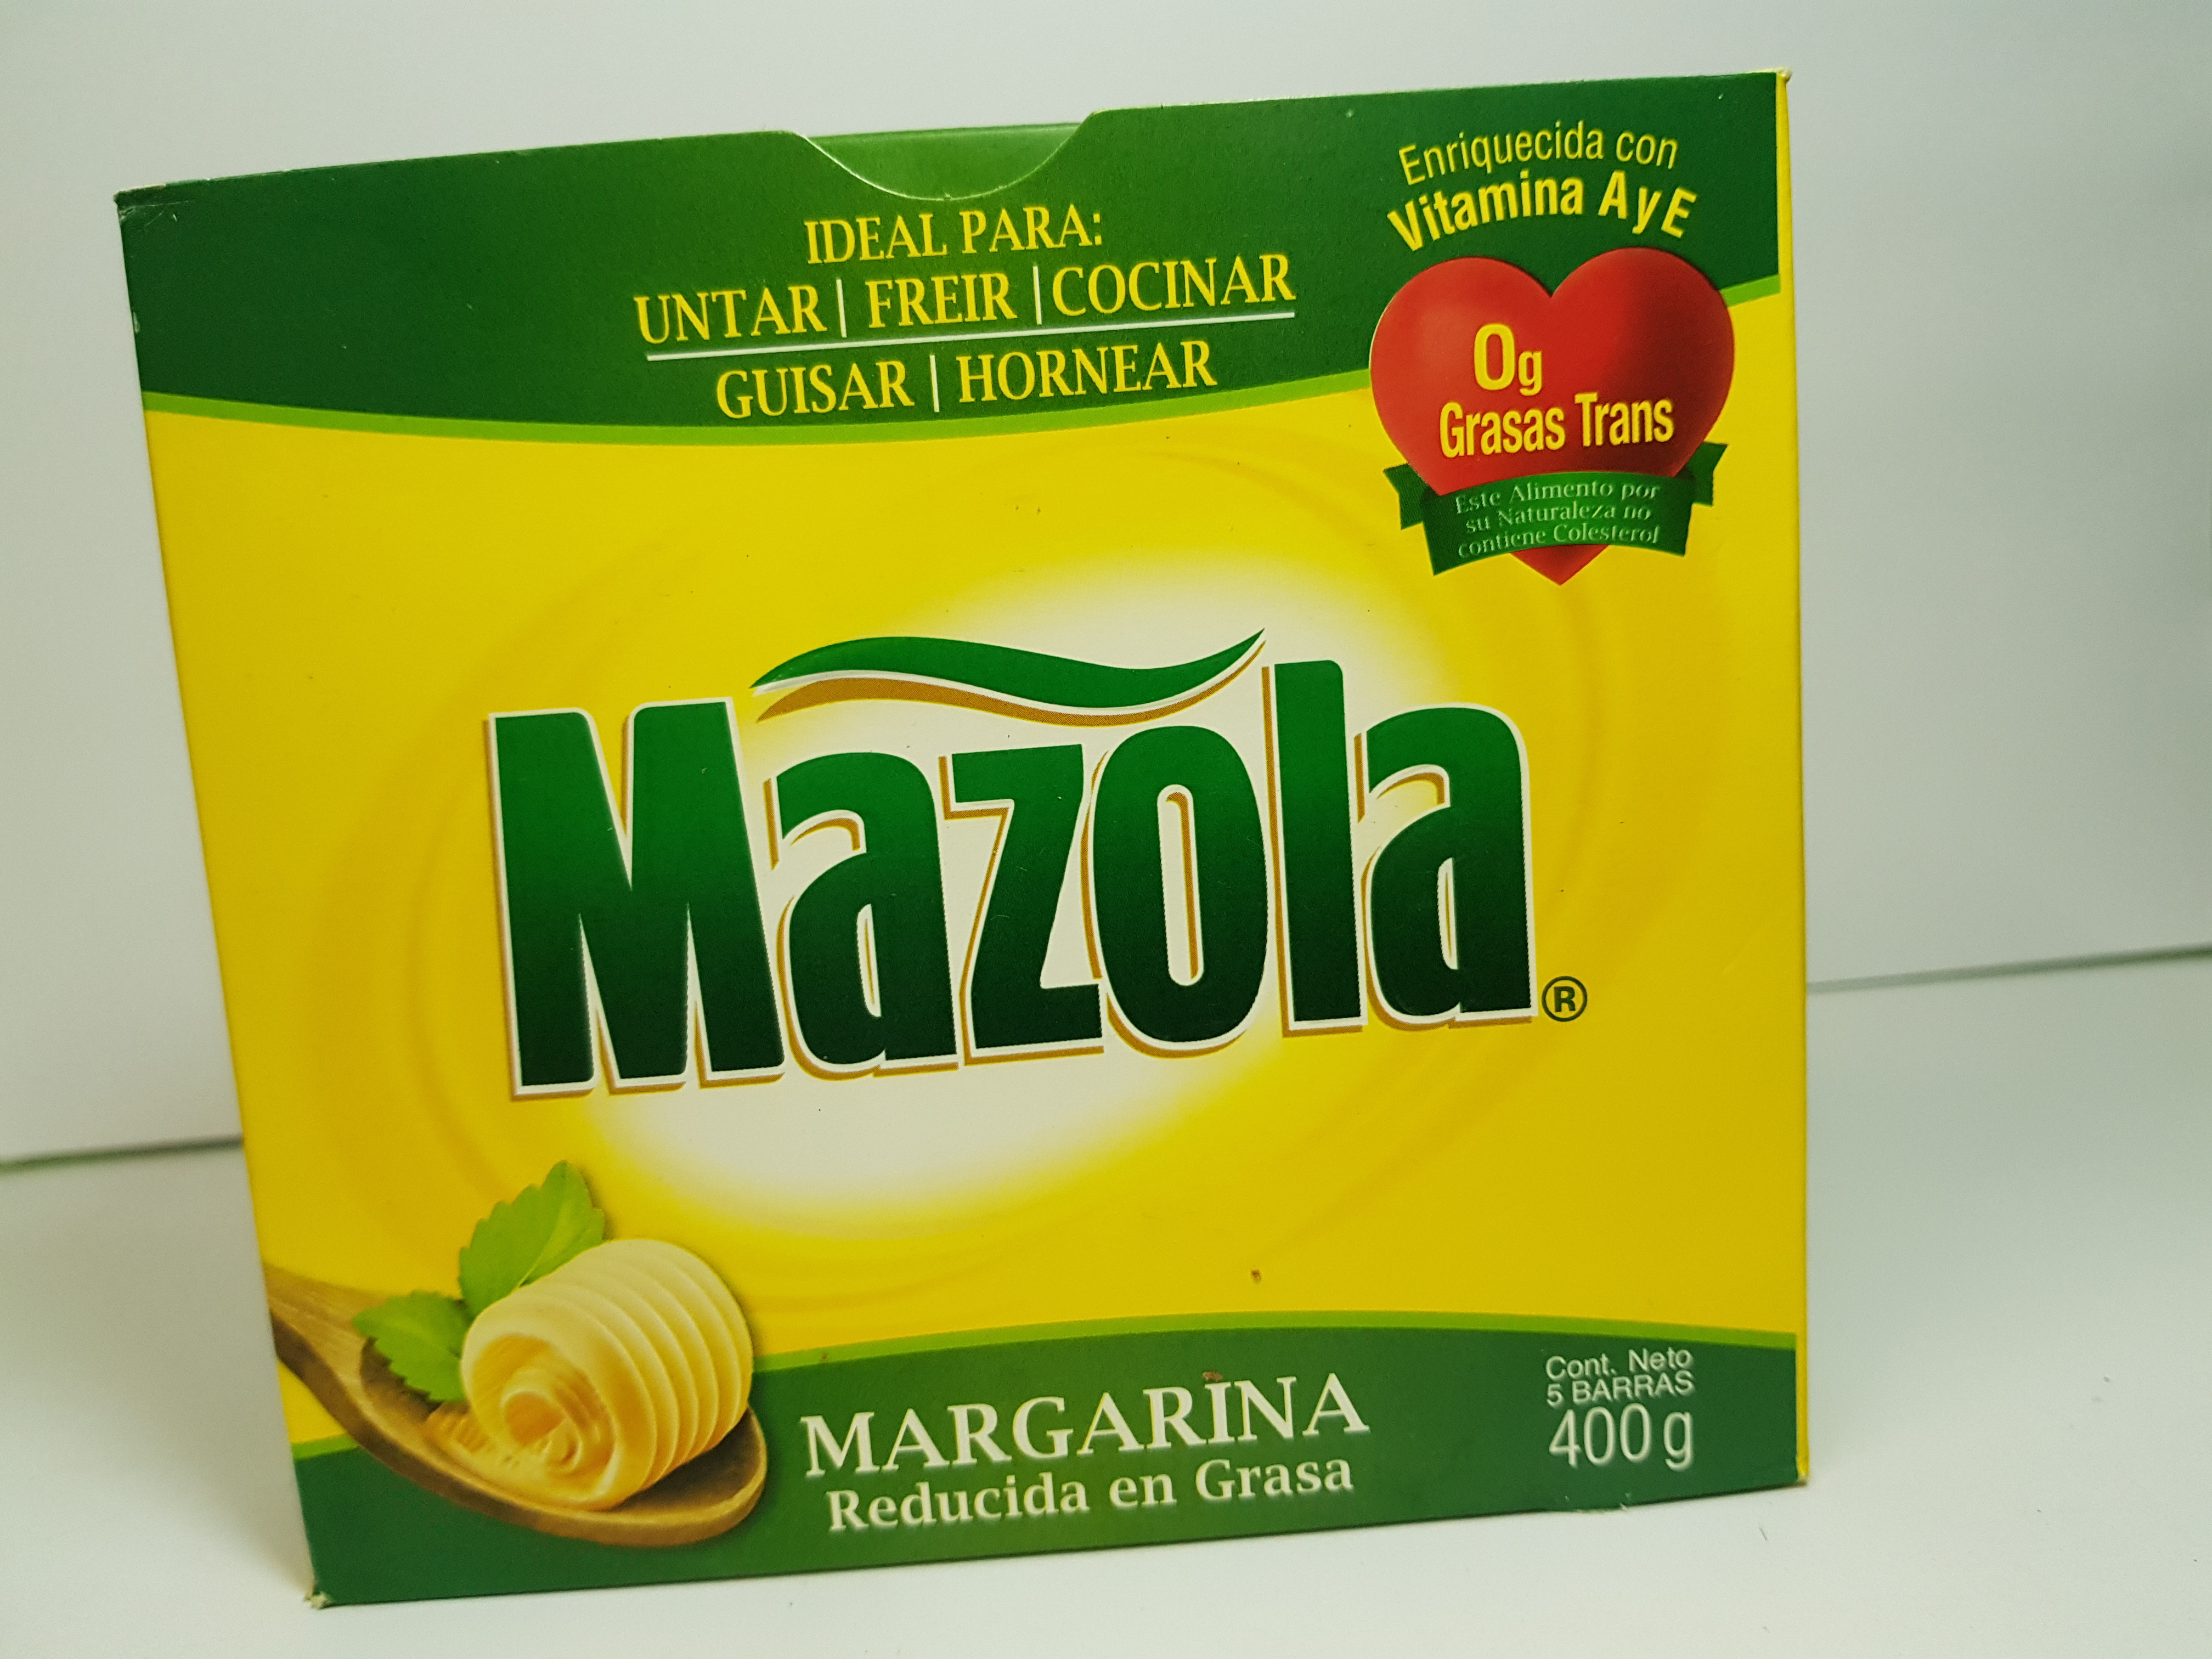mazola: (91, 54, 1933, 1645)
